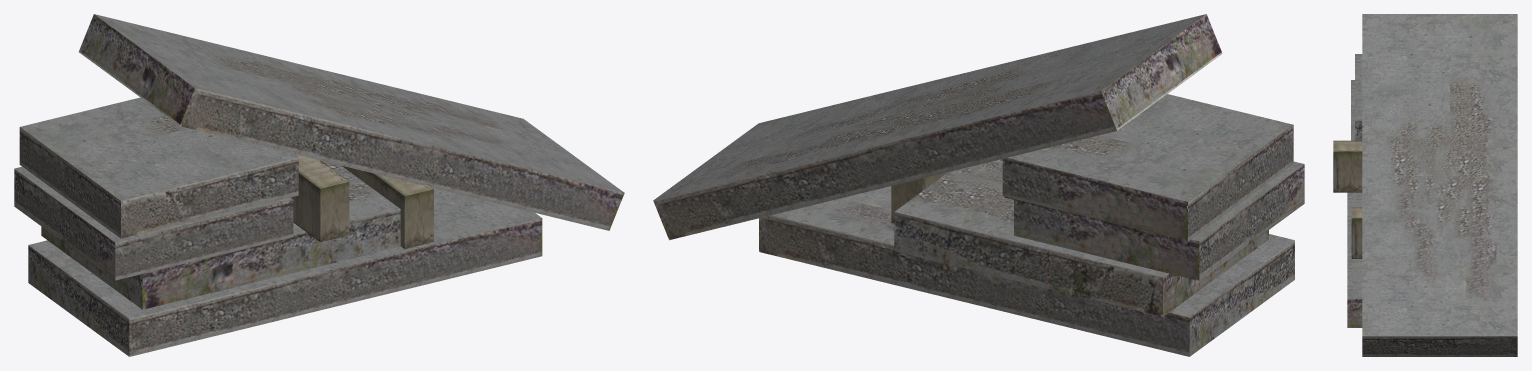
File: lift2.FBX
3 renders of one model, left to right at view 1: azimuth 30°, elevation 25°; view 2: azimuth 150°, elevation 25°; view 3: azimuth 270°, elevation 25°, orthographic. The views are drawn at different scales.
Parts seen in each view (by area): view 1: lift2; view 2: lift2; view 3: lift2.
Boxes of the visible parts, x1,y1,x2,y2 form: lift2: (14, 14, 624, 356); lift2: (653, 14, 1304, 356); lift2: (1333, 14, 1517, 356).
Bounding box in the file's own units: 842 × 380 × 339.
